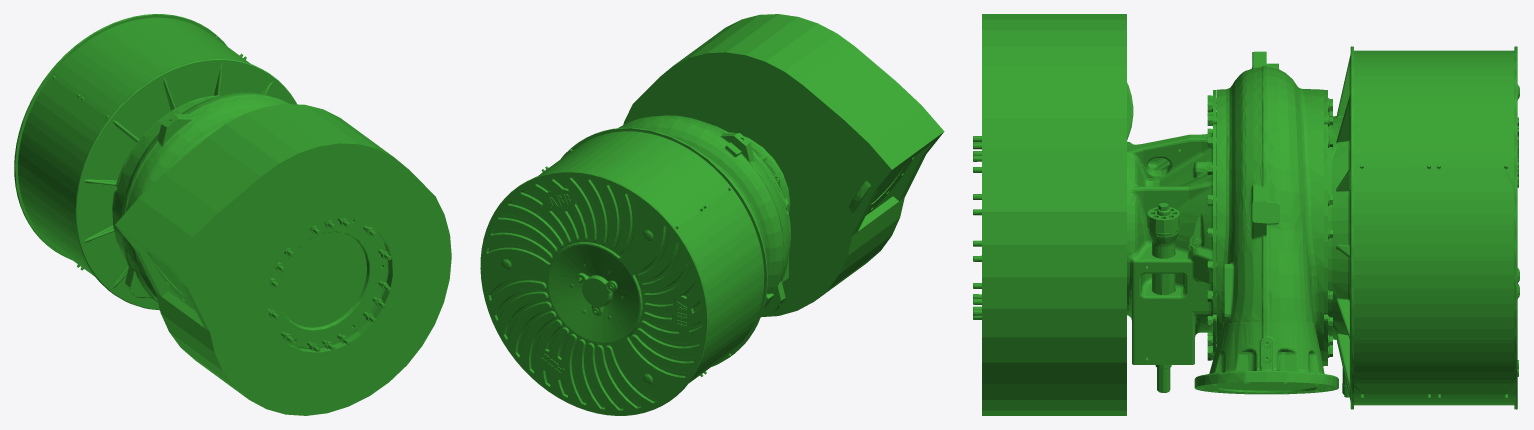
File: TurboCharger.glb
3 renders of one model, left to right at view 1: azimuth 30°, elevation 25°; view 2: azimuth 150°, elevation 25°; view 3: azimuth 270°, elevation 25°, orthographic. The views are drawn at different scales.
Parts seen in each view (by area): view 1: Cover, Silencer, TurbinCasing, CompressorCasing; view 2: Silencer, Cover, CompressorCasing, TurbinCasing, BearingCasing; view 3: Silencer, Cover, CompressorCasing, BearingCasing, TurbinCasing.
Part boxes in pixels (x1=…): Cover: x1=115, y1=104, x2=451, y2=415; Silencer: x1=14, y1=14, x2=296, y2=310; TurbinCasing: x1=145, y1=218, x2=391, y2=352; CompressorCasing: x1=112, y1=92, x2=288, y2=302; Silencer: x1=480, y1=127, x2=767, y2=415; Cover: x1=623, y1=14, x2=944, y2=317; CompressorCasing: x1=618, y1=115, x2=790, y2=312; TurbinCasing: x1=848, y1=157, x2=913, y2=215; BearingCasing: x1=729, y1=132, x2=790, y2=282; Silencer: x1=1328, y1=46, x2=1519, y2=409; Cover: x1=982, y1=14, x2=1126, y2=415; CompressorCasing: x1=1194, y1=51, x2=1338, y2=394; BearingCasing: x1=1127, y1=112, x2=1216, y2=392; TurbinCasing: x1=973, y1=82, x2=1133, y2=319.
Bounding box in the file's own units: 1.29 × 1.04 × 1.43.
